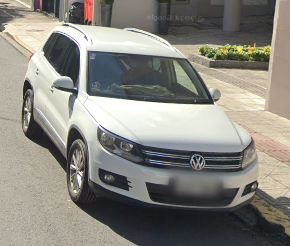car: (21, 24, 261, 216)
